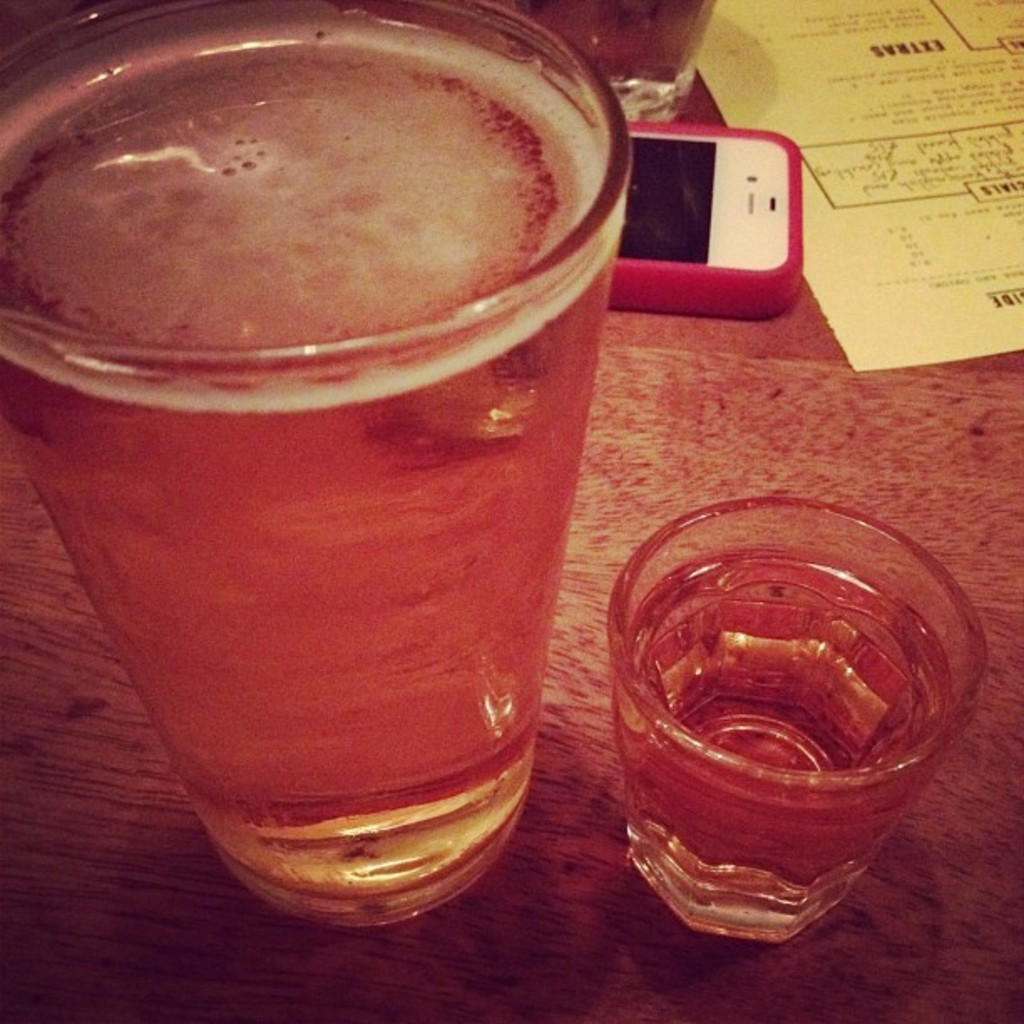Beer: (8, 20, 630, 913)
